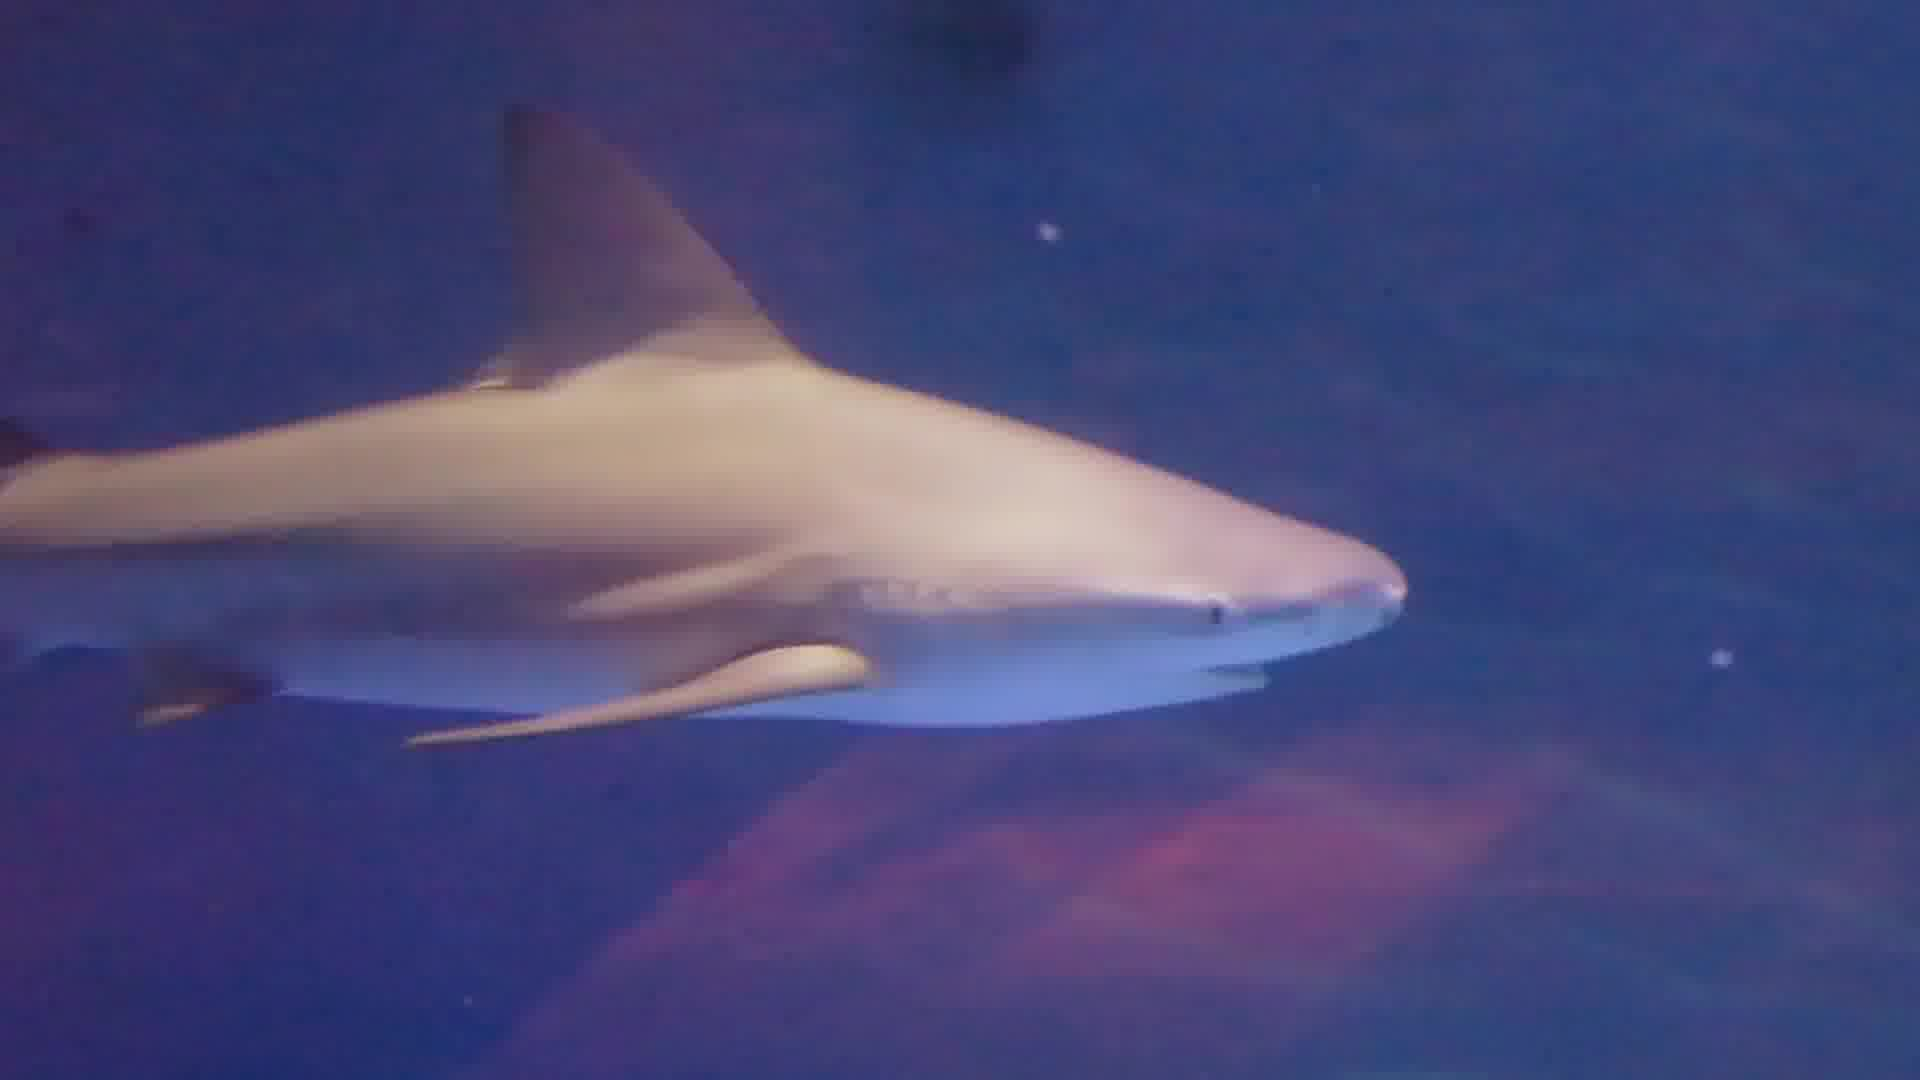Carcharhinus leucas: (1, 94, 1414, 807)
